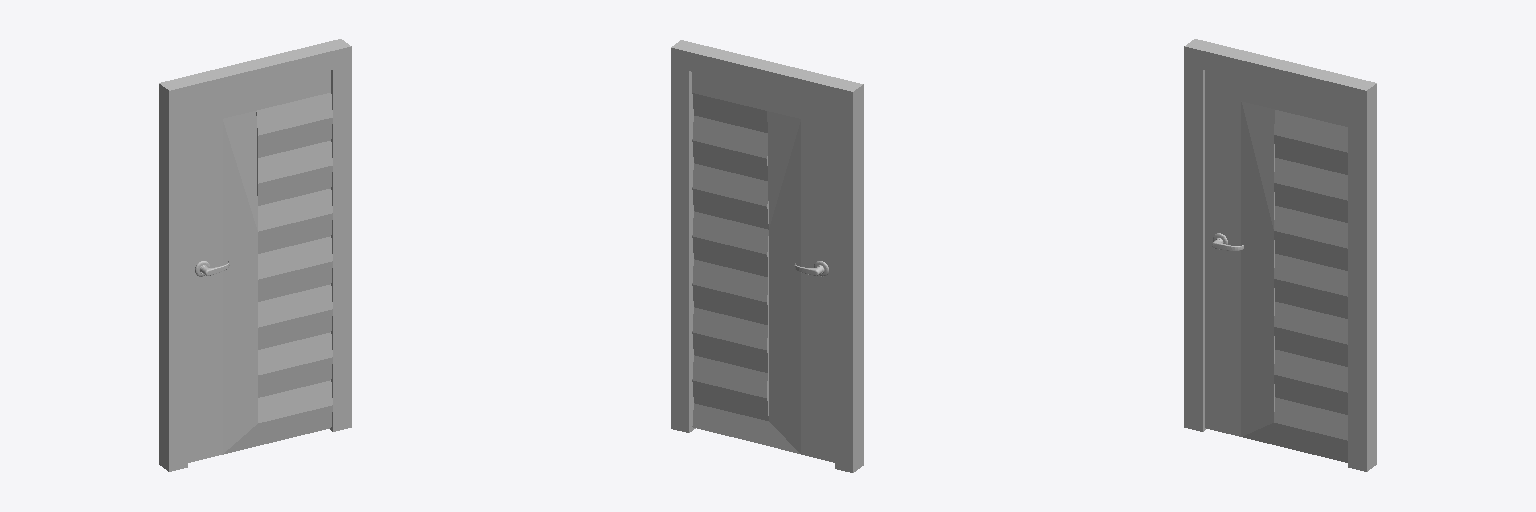
Rendered from uploads_files_2491218_door.obj.
The picture shows the model from 3 angles: view 1: azimuth 30°, elevation 25°; view 2: azimuth 150°, elevation 25°; view 3: azimuth 330°, elevation 25°; orthographic projection.
Visible parts, largest first — view 1: Plane.001_Plane.002, Plane; view 2: Plane.001_Plane.002, Plane; view 3: Plane.001_Plane.002, Plane.
Part boxes in pixels (left/top/right/bottom): Plane.001_Plane.002: left=188, top=71, right=332, bottom=462; Plane: left=159, top=39, right=351, bottom=471; Plane.001_Plane.002: left=692, top=72, right=834, bottom=462; Plane: left=671, top=40, right=863, bottom=472; Plane.001_Plane.002: left=1205, top=71, right=1347, bottom=462; Plane: left=1184, top=39, right=1376, bottom=471.
Size of the model in its own units: 1 by 2 by 0.1795.